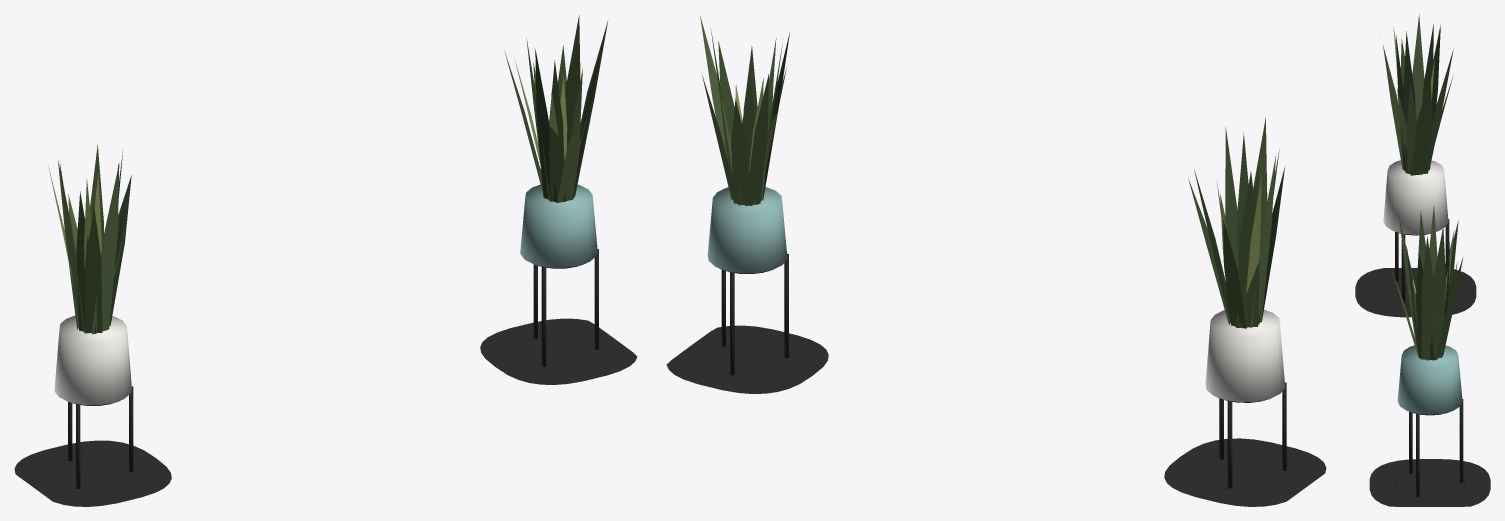
Rendered from hall2f_plants.glb.
3 renders of one model, left to right at view 1: azimuth 30°, elevation 25°; view 2: azimuth 150°, elevation 25°; view 3: azimuth 270°, elevation 25°, orthographic. The views are drawn at different scales.
Parts seen in each view (by area): view 1: root; view 2: root; view 3: root.
Part boxes in pixels (x1,y1,x2,y2): root: (14, 15, 637, 506); root: (666, 15, 1326, 506); root: (1355, 14, 1490, 506).
Bounding box in the file's own units: 2.44 × 1.31 × 0.5831.
